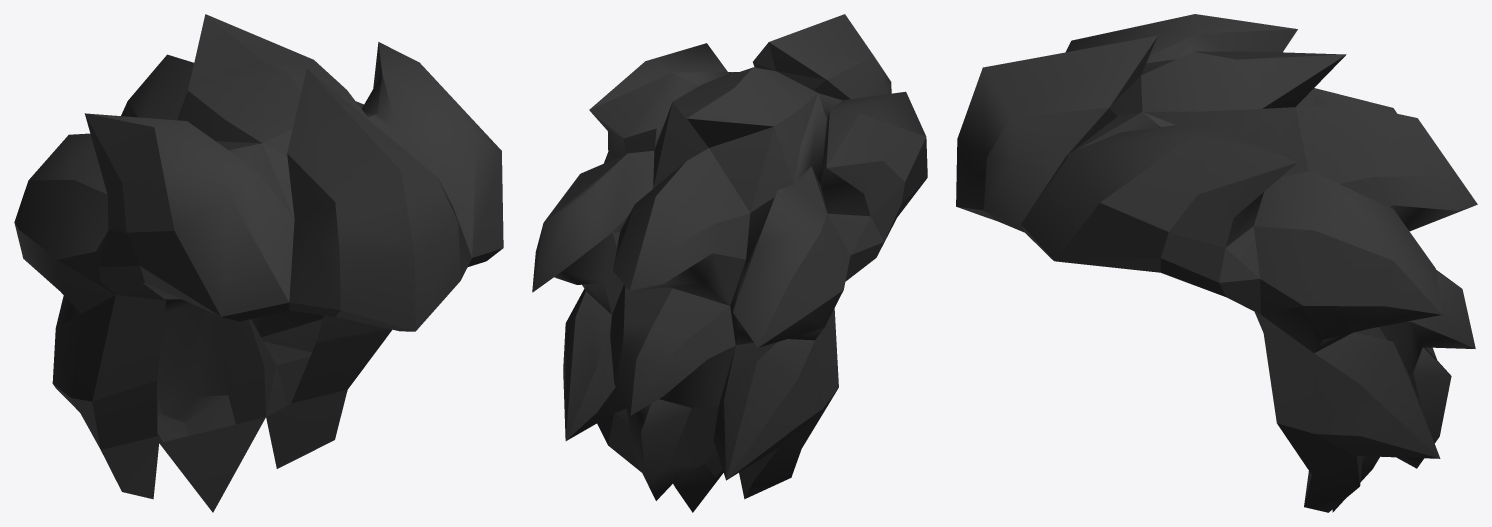
The model's file is Hair_Black_19.fbx.
The picture shows the model from 3 angles, left to right: view 1: azimuth 30°, elevation 25°; view 2: azimuth 150°, elevation 25°; view 3: azimuth 270°, elevation 25°; orthographic projection. The views are drawn at different scales.
Visible parts, largest first — view 1: Hair_Black_19; view 2: Hair_Black_19; view 3: Hair_Black_19.
Part boxes in pixels (bbox=[...]): Hair_Black_19: bbox=[14, 14, 503, 512]; Hair_Black_19: bbox=[532, 14, 927, 512]; Hair_Black_19: bbox=[956, 14, 1477, 512].
Bounding box in the file's own units: 47.08 × 65.84 × 65.25.
